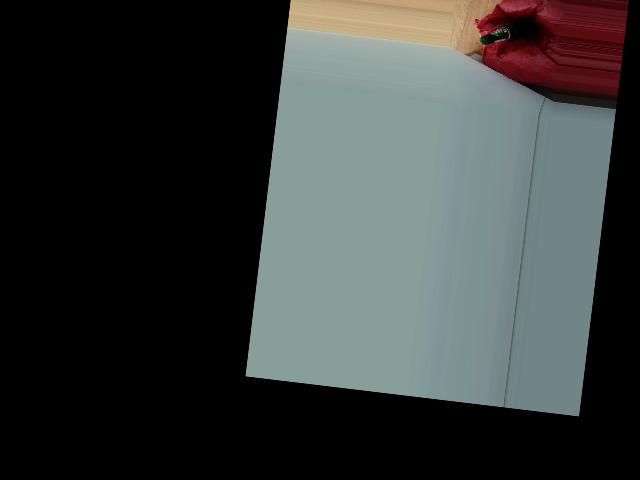beer: (479, 13, 535, 49)
